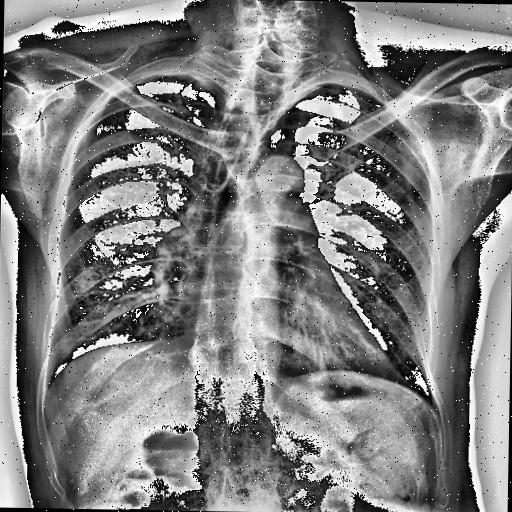9- Other lesion: (185, 66, 289, 364), (178, 56, 300, 282), (190, 102, 286, 362)
